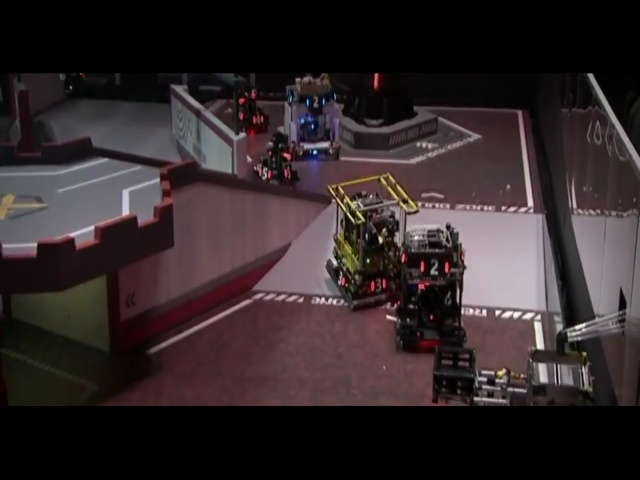bluePlate: (271, 152, 305, 181), (404, 329, 432, 360), (345, 323, 366, 355), (129, 199, 150, 229), (318, 133, 342, 159), (161, 202, 181, 228), (350, 131, 363, 157)
redPlate: (138, 320, 188, 364), (203, 310, 225, 351)
